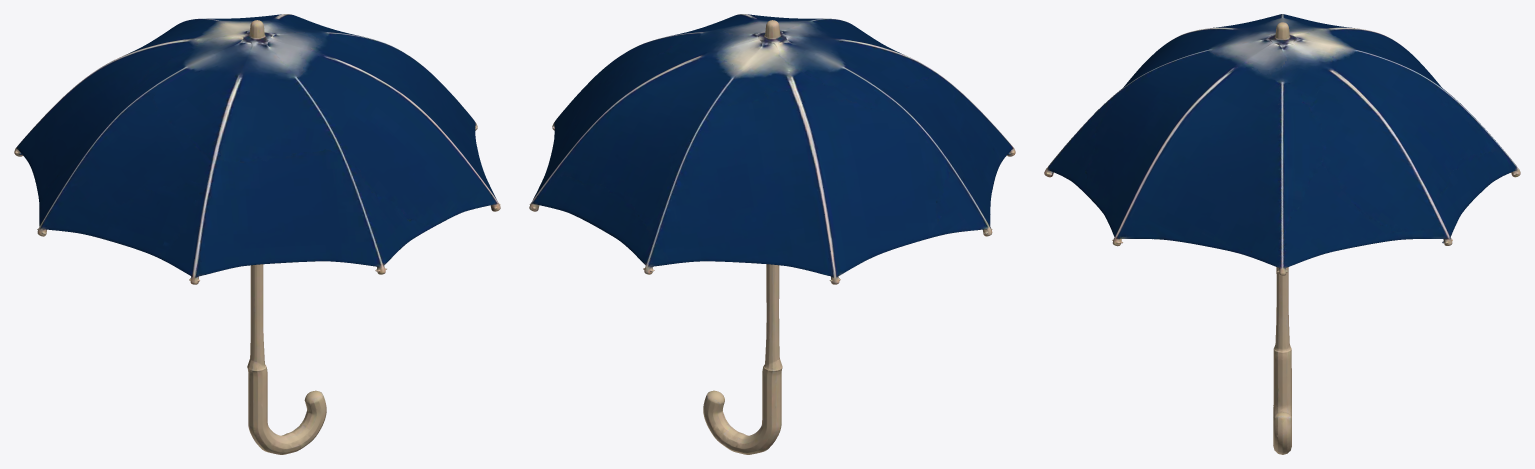
3 views of the same model, side by side, from view 1: azimuth 30°, elevation 25°; view 2: azimuth 150°, elevation 25°; view 3: azimuth 270°, elevation 25° (orthographic). The views are drawn at different scales.
Parts seen in each view (by area): view 1: material; view 2: material; view 3: material.
Boxes of the visible parts, x1,y1,x2,y2 form: material: (14, 14, 500, 454); material: (529, 14, 1015, 454); material: (1044, 14, 1520, 454).
Bounding box in the file's own units: 1.16 × 1.11 × 1.16.
Materials: 1 (1 with a texture image).
